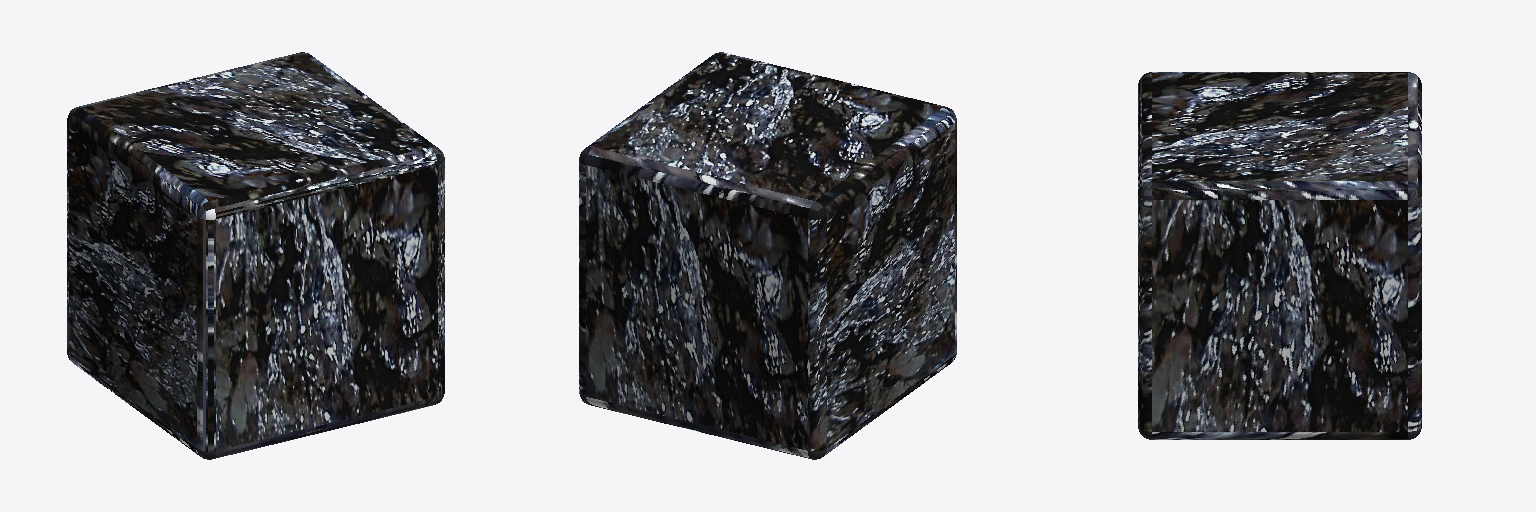
3 renders of one model, left to right at view 1: azimuth 30°, elevation 25°; view 2: azimuth 150°, elevation 25°; view 3: azimuth 270°, elevation 25°, orthographic.
Parts seen in each view (by area): view 1: Cube; view 2: Cube; view 3: Cube.
Boxes of the visible parts, box(x1,y1,x2,y2) form: Cube: box(67, 52, 444, 459); Cube: box(579, 52, 956, 459); Cube: box(1138, 72, 1421, 439).
Bounding box in the file's own units: 2 × 2 × 2.
Materials: 1 (1 with a texture image).